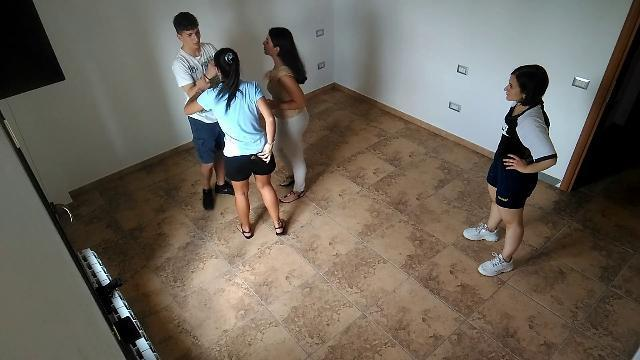non-violence: (460, 63, 560, 279), (259, 26, 311, 206)
violence: (169, 10, 285, 242)
